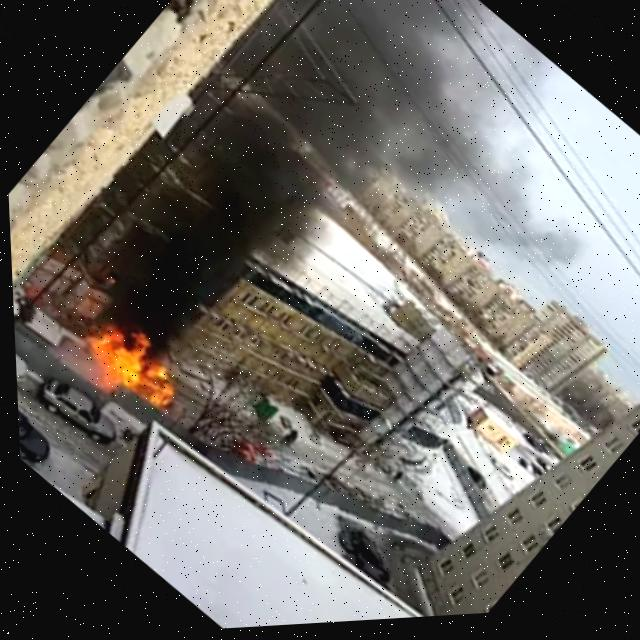Smoke: (55, 0, 506, 392)
